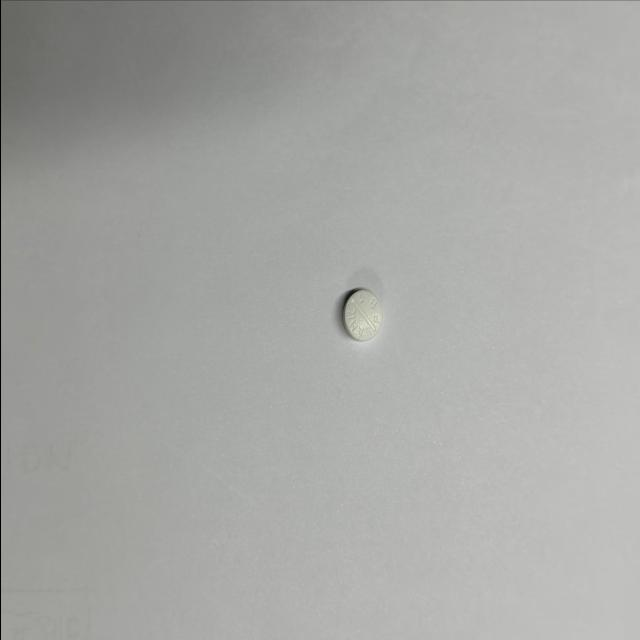Piller: (342, 290, 381, 342)
